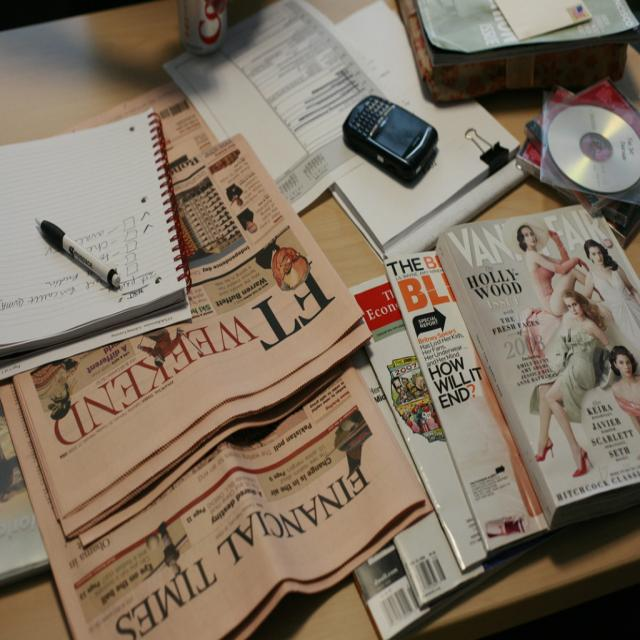Mobile-phone: (345, 85, 446, 169)
